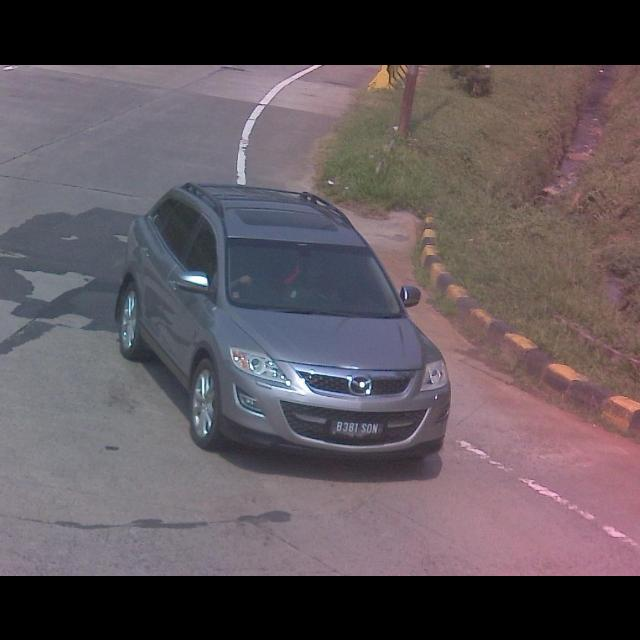plate: (332, 416, 386, 439)
